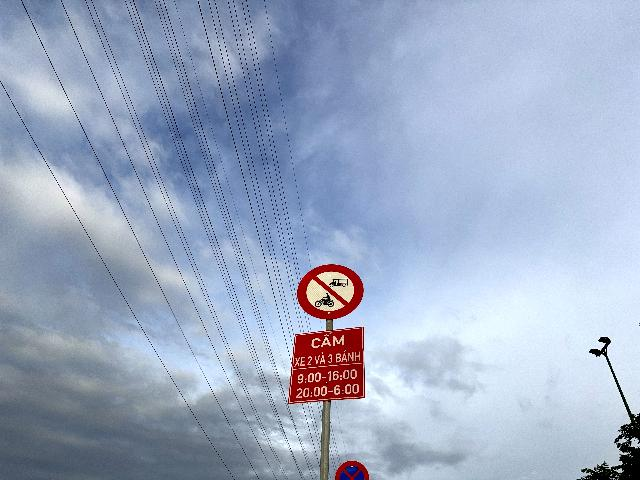cam-xe-2-banh-3-banh: (297, 264, 363, 319)
